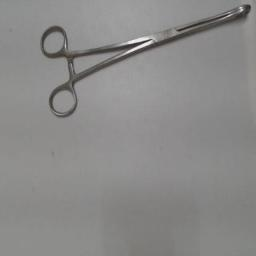Sponge Forceps: (36, 2, 254, 122)
